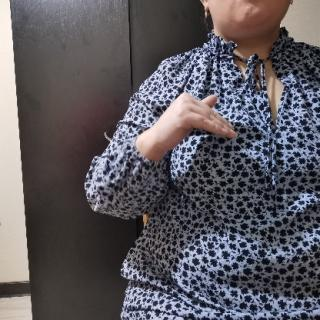KHAA: (148, 87, 242, 153)
